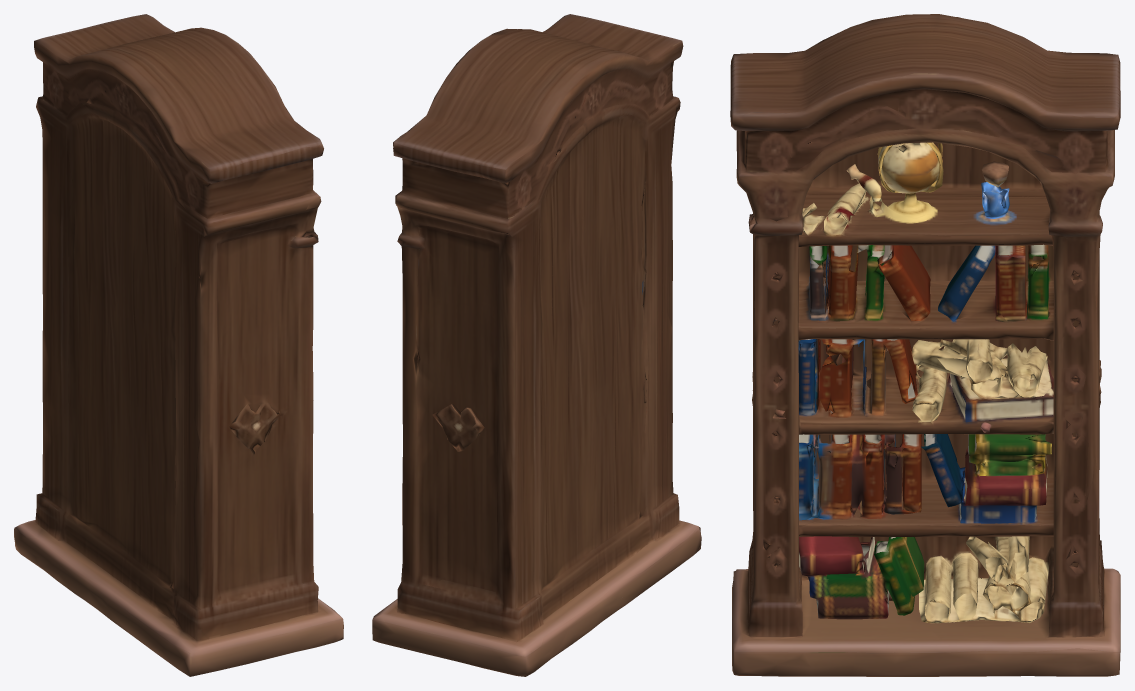
File: int_bookcase.glb
The picture shows the model from 3 angles, left to right: view 1: azimuth 30°, elevation 25°; view 2: azimuth 150°, elevation 25°; view 3: azimuth 270°, elevation 25°; orthographic projection. The views are drawn at different scales.
Parts seen in each view (by area): view 1: world; view 2: world; view 3: world.
Part boxes in pixels (box(x1,y1,x2,y2)): world: box(14, 14, 343, 676); world: box(372, 14, 701, 676); world: box(730, 14, 1120, 676).
Bounding box in the file's own units: 0.3017 × 1 × 0.596.
1 material, 1 textured.
